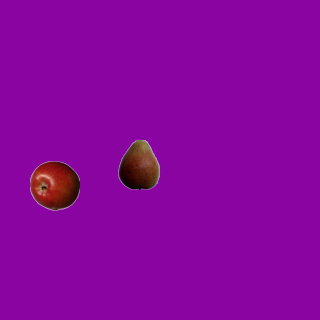Apple Braeburn: (29, 160, 79, 210)
Pear Forelle: (113, 139, 163, 189)
